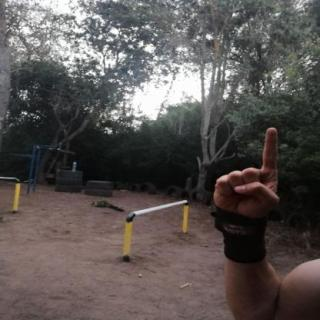BAA: (201, 120, 294, 233)
